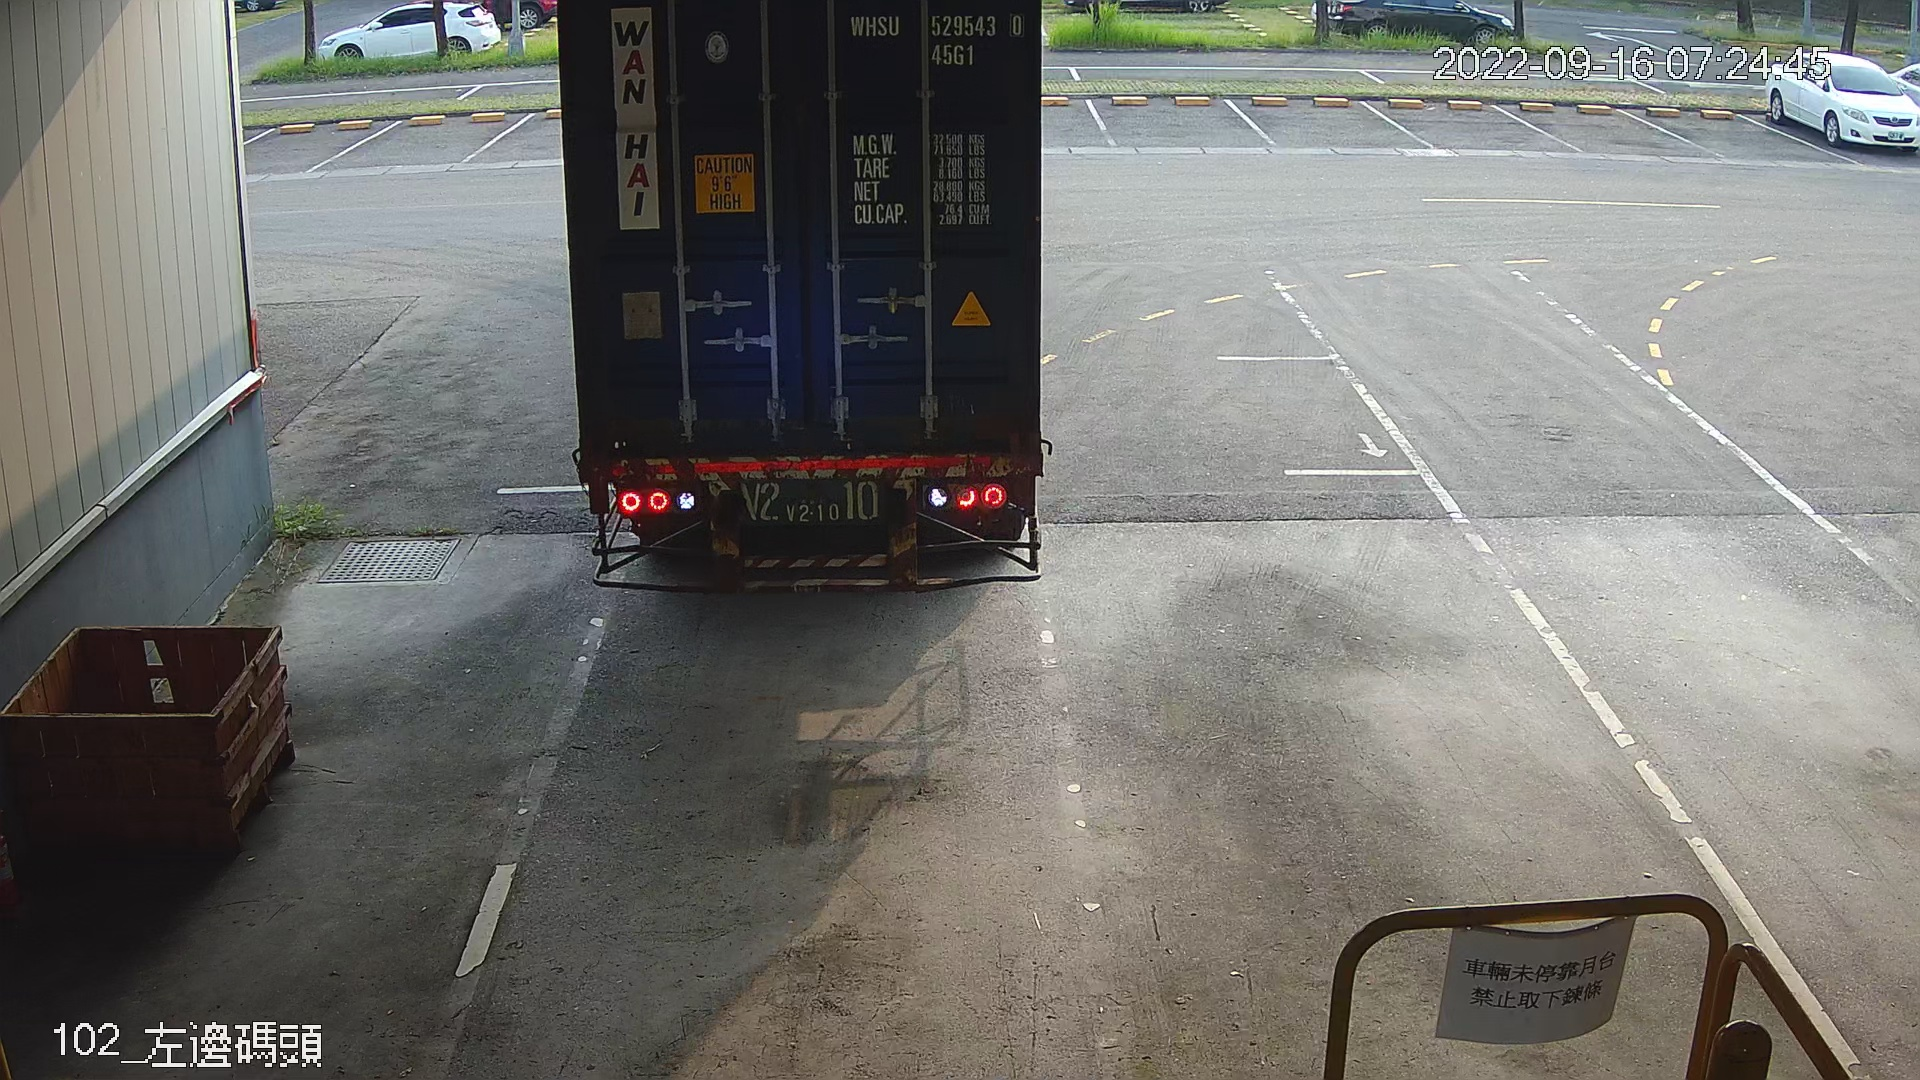container: (843, 4, 1034, 74)
